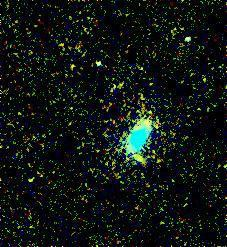star: (124, 142, 154, 172)
